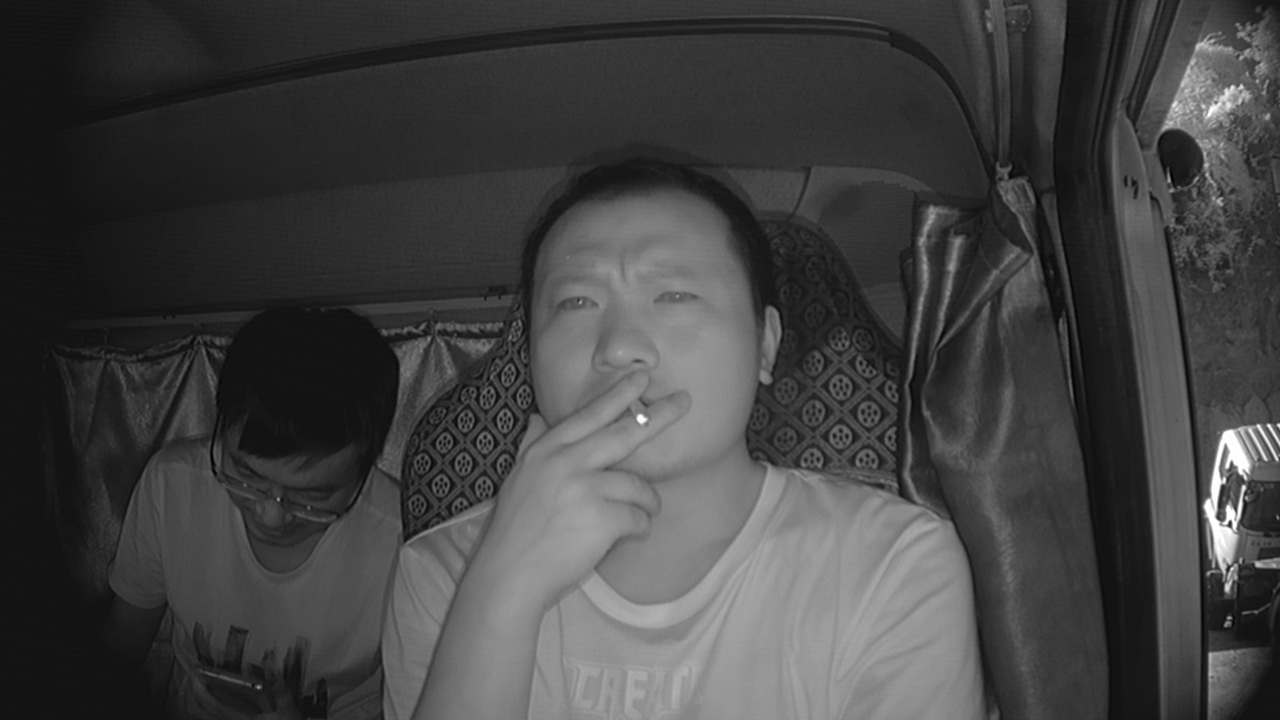hand: (547, 375, 698, 552)
